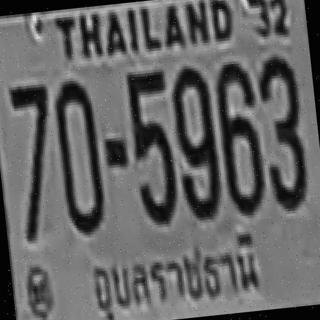N00: (51, 76, 105, 234)
N03: (255, 52, 309, 210)
N05: (125, 67, 177, 222)
N06: (213, 59, 265, 214)
N07: (8, 81, 60, 239)
N09: (169, 63, 221, 218)
P72: (84, 227, 268, 320)
